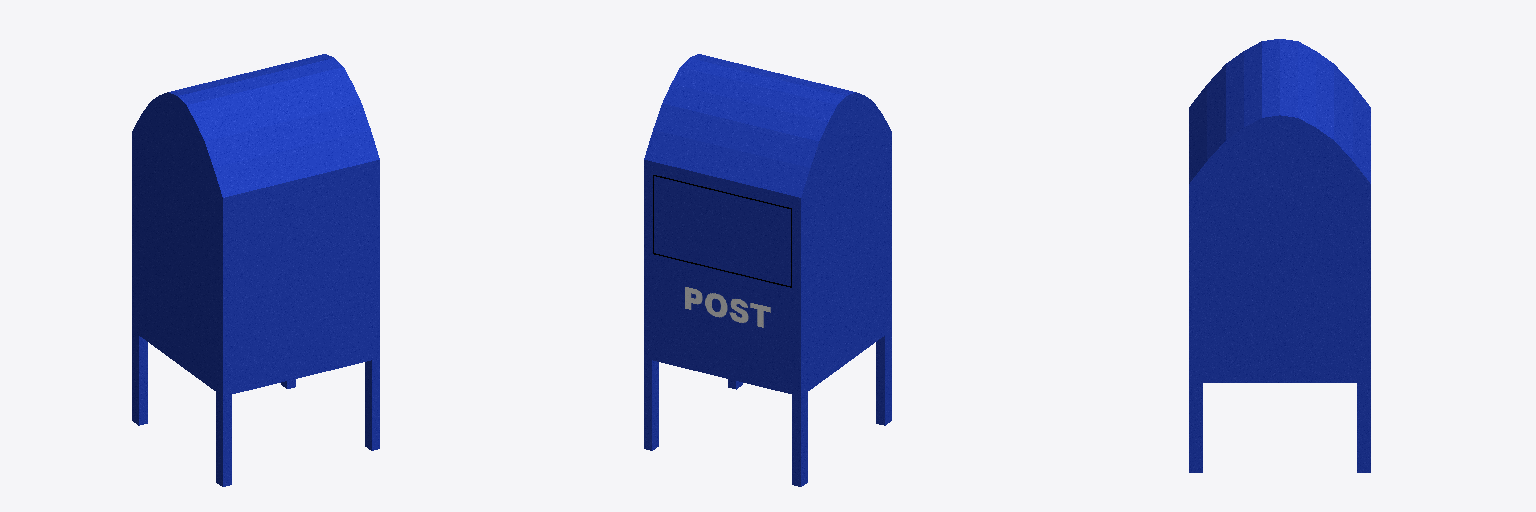
The picture shows the model from 3 angles: view 1: azimuth 30°, elevation 25°; view 2: azimuth 150°, elevation 25°; view 3: azimuth 270°, elevation 25°; orthographic projection.
Visible parts, largest first — view 1: grid1; view 2: grid1; view 3: grid1.
Part boxes in pixels (left/top/right/bottom): grid1: left=132, top=54, right=379, bottom=486; grid1: left=644, top=54, right=891, bottom=486; grid1: left=1189, top=39, right=1370, bottom=472.
Size of the model in its own units: 0.5 by 1.09 by 0.5.
Materials: 1 (1 with a texture image).